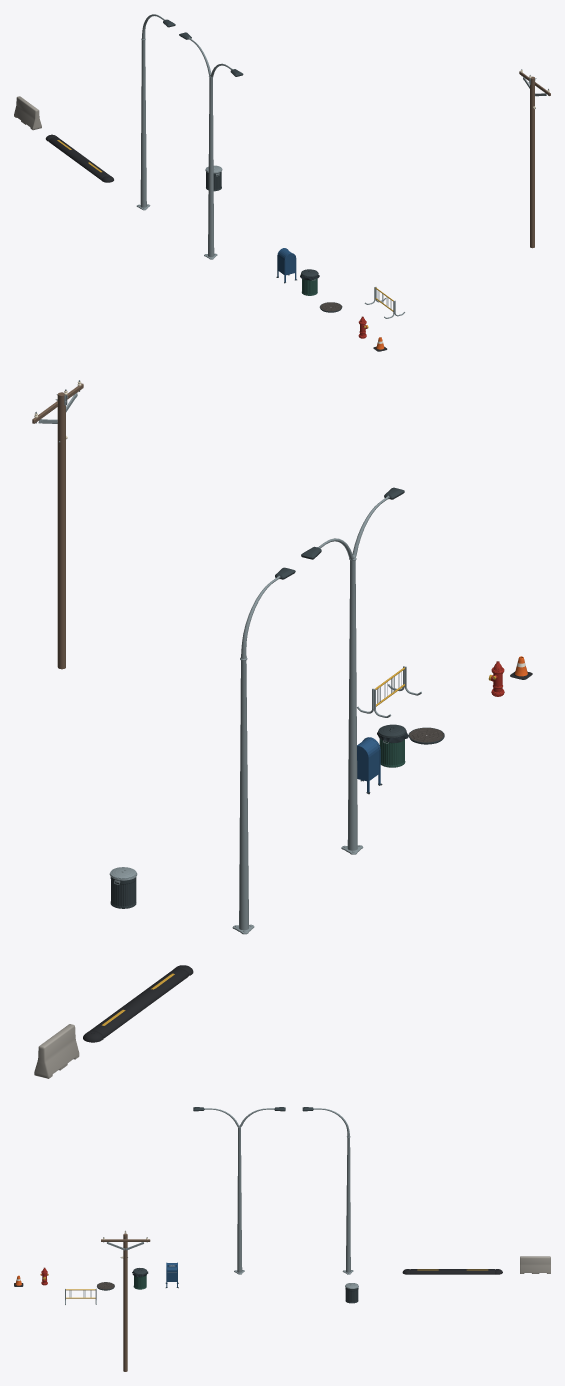
File: CityProps Rounded.fbx
3 views of the same model, one above another, from view 1: azimuth 30°, elevation 25°; view 2: azimuth 150°, elevation 25°; view 3: azimuth 270°, elevation 25° (orthographic). The views are drawn at different scales.
Parts seen in each view (by area): view 1: StreetLightDouble, StreetLightSingle, UtilityPole, SpeedBump, ConcreteBarrier, Mailbox, TrashCanWithLiner; view 2: StreetLightDouble, UtilityPole, StreetLightSingle, SpeedBump, ConcreteBarrier, TrashCanWithLiner, TrashCan, Mailbox; view 3: StreetLightDouble, UtilityPole, StreetLightSingle, SpeedBump, ConcreteBarrier.
Boxes of the visible parts, x1=… form: StreetLightDouble: x1=179, y1=32, x2=243, y2=259; StreetLightSingle: x1=136, y1=14, x2=175, y2=210; UtilityPole: x1=519, y1=69, x2=550, y2=248; SpeedBump: x1=45, y1=134, x2=113, y2=182; ConcreteBarrier: x1=14, y1=96, x2=41, y2=130; Mailbox: x1=276, y1=248, x2=296, y2=283; TrashCanWithLiner: x1=300, y1=269, x2=319, y2=295; StreetLightDouble: x1=301, y1=487, x2=404, y2=854; UtilityPole: x1=32, y1=380, x2=83, y2=669; StreetLightSingle: x1=232, y1=567, x2=295, y2=934; SpeedBump: x1=83, y1=965, x2=193, y2=1042; ConcreteBarrier: x1=34, y1=1024, x2=79, y2=1078; TrashCanWithLiner: x1=377, y1=724, x2=408, y2=767; TrashCan: x1=109, y1=867, x2=137, y2=908; Mailbox: x1=357, y1=737, x2=382, y2=794; StreetLightDouble: x1=193, y1=1107, x2=285, y2=1274; UtilityPole: x1=101, y1=1230, x2=150, y2=1371; StreetLightSingle: x1=302, y1=1107, x2=353, y2=1274; SpeedBump: x1=402, y1=1269, x2=502, y2=1274; ConcreteBarrier: x1=520, y1=1256, x2=550, y2=1273.
Bounding box in the file's own units: 10.68 × 8.03 × 23.75.
